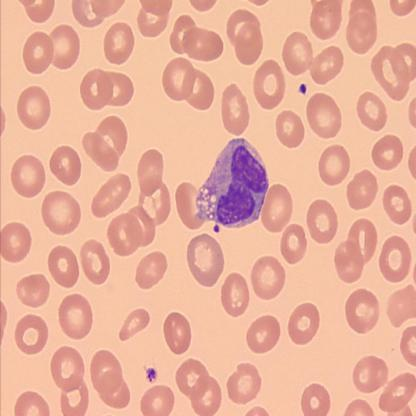Monocyte: (192, 135, 270, 233)
